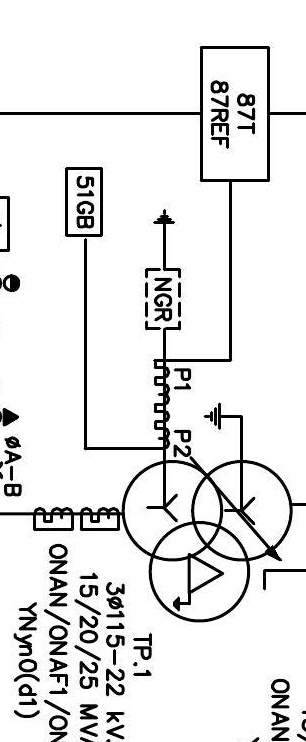11522_tx_ynyn0d1: (120, 459, 294, 624)
NGR_future: (144, 209, 182, 331)
